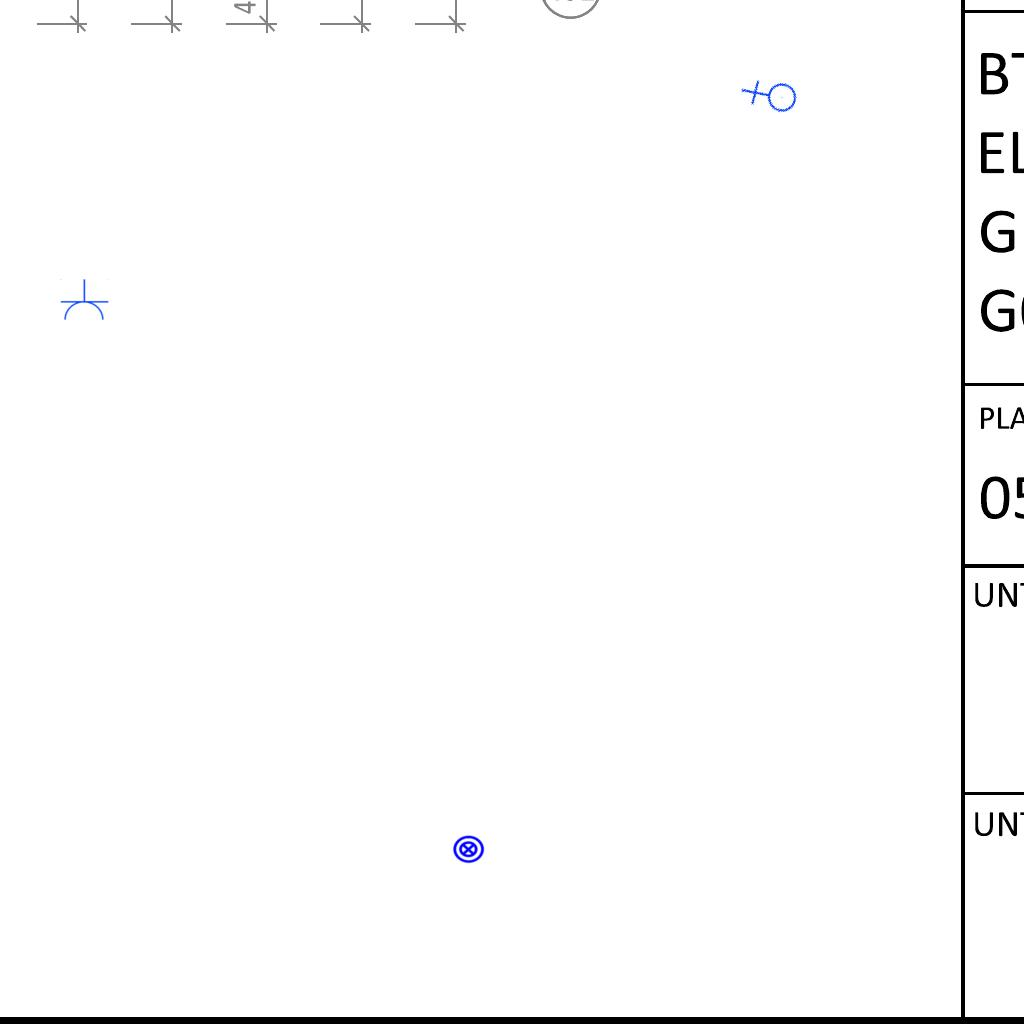Elektroanschluss_allgemein_230V_Geraeteanschlussdose_230V: (738, 63, 805, 132)
Schukosteckdose_einfach: (59, 279, 109, 322)
Taster_beleuchtet: (452, 833, 485, 866)
